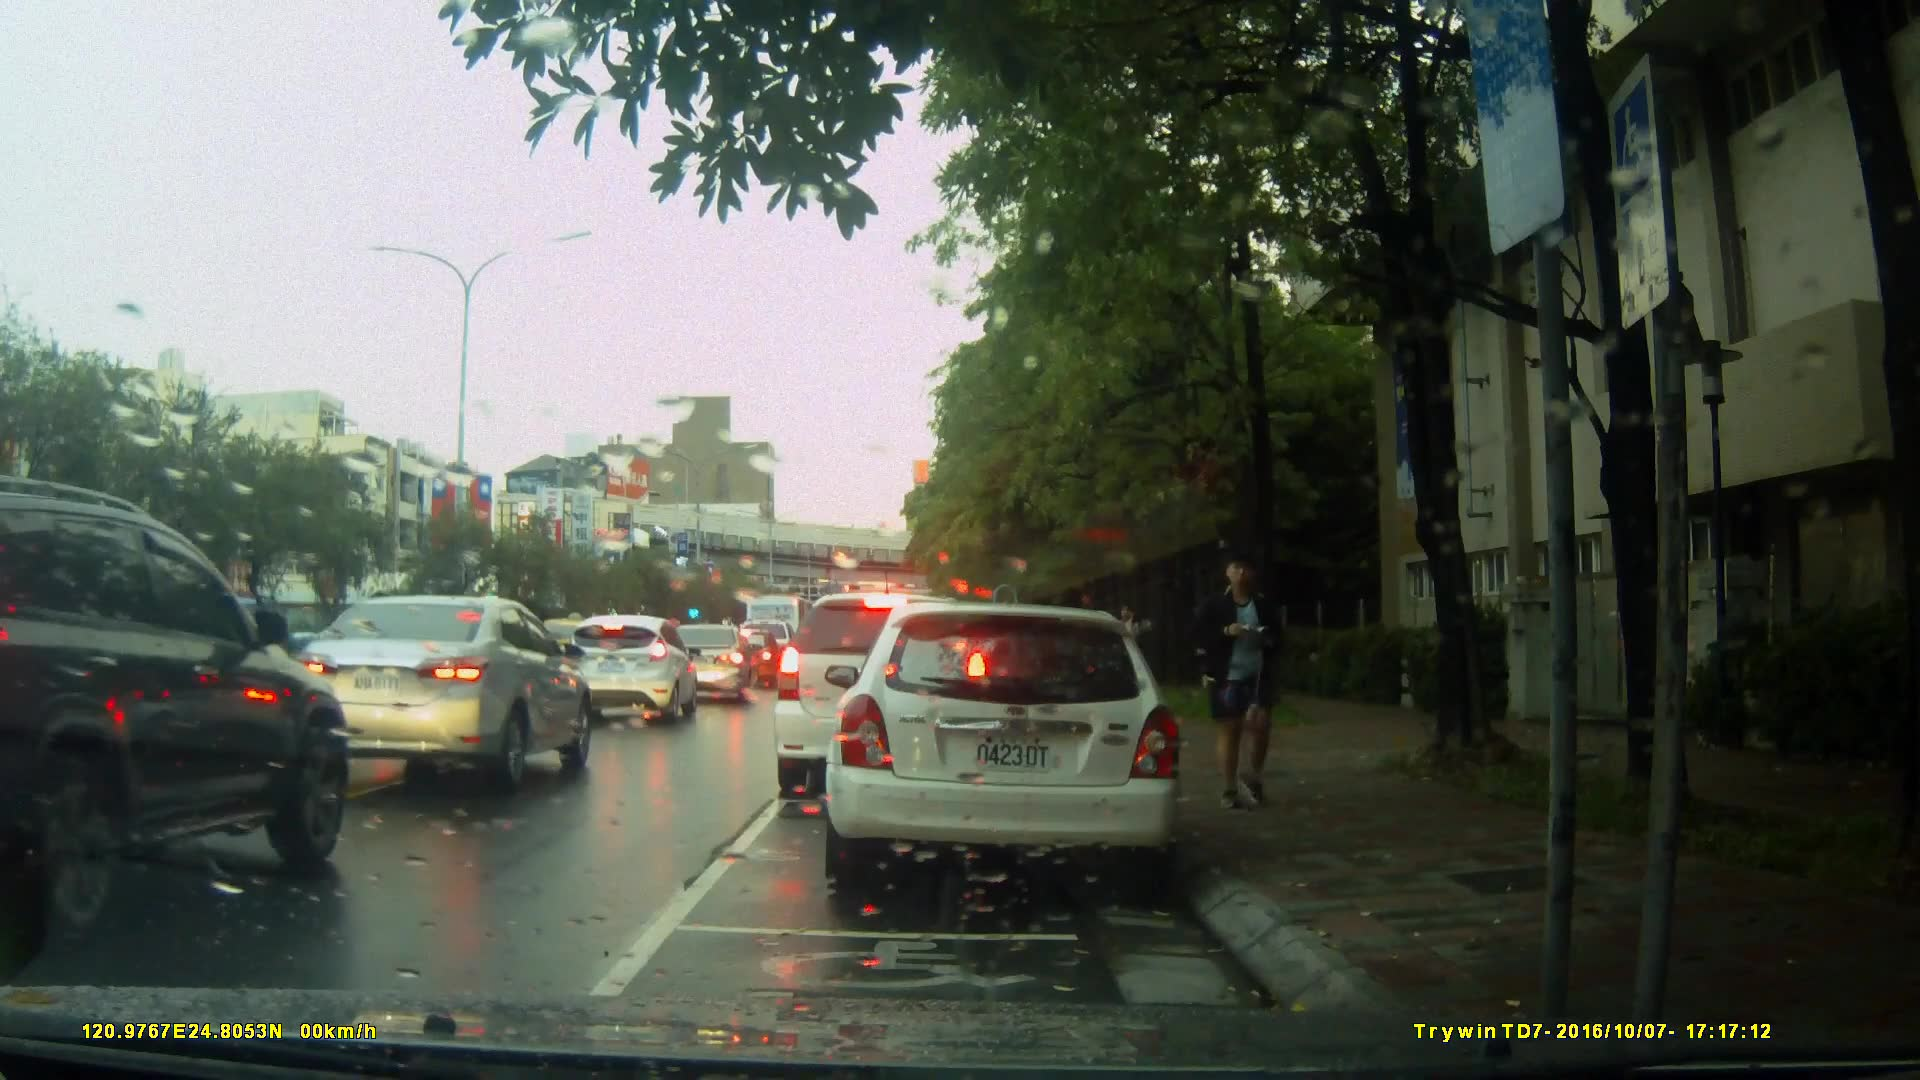pedestrian: (1183, 560, 1302, 819), (1108, 588, 1141, 730)
vehicle: (1, 470, 356, 954), (815, 593, 1197, 891), (290, 595, 596, 797), (770, 590, 995, 802), (556, 612, 700, 727), (665, 624, 755, 702)
